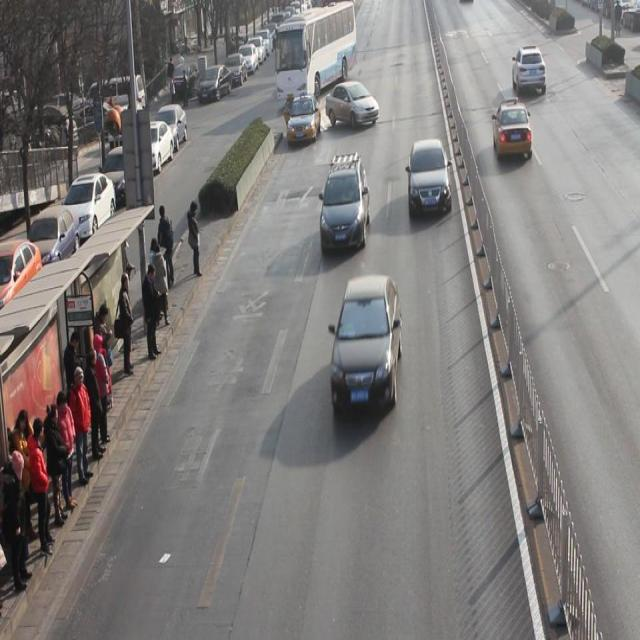car: (330, 277, 403, 414), (320, 160, 370, 255), (407, 139, 452, 220), (326, 80, 380, 131), (494, 102, 533, 162), (287, 96, 322, 146), (513, 46, 547, 97)
van: (275, 11, 355, 108)
